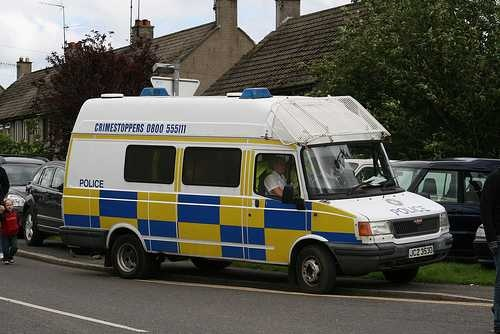Police Van: (54, 75, 457, 282)
